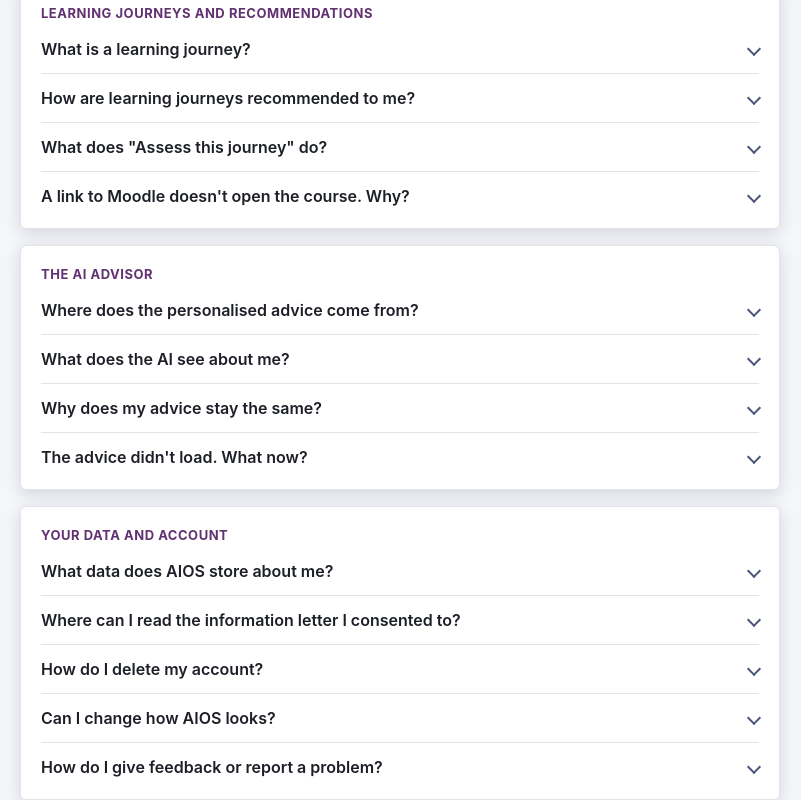
Scenario: FaqPage › opens a question to show its answer
(page scrolled)
Click the heading "How do I delete my account?" at [152, 669], box [41,659,263,679]
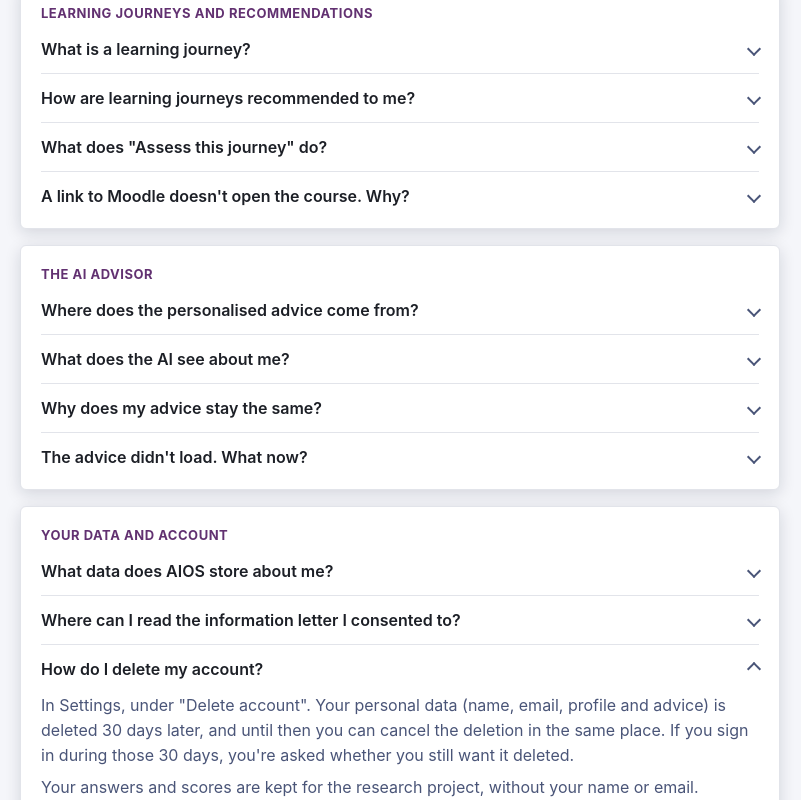
Expected: the text "Your personal data (name, email" is shown, [41,695,748,765]
